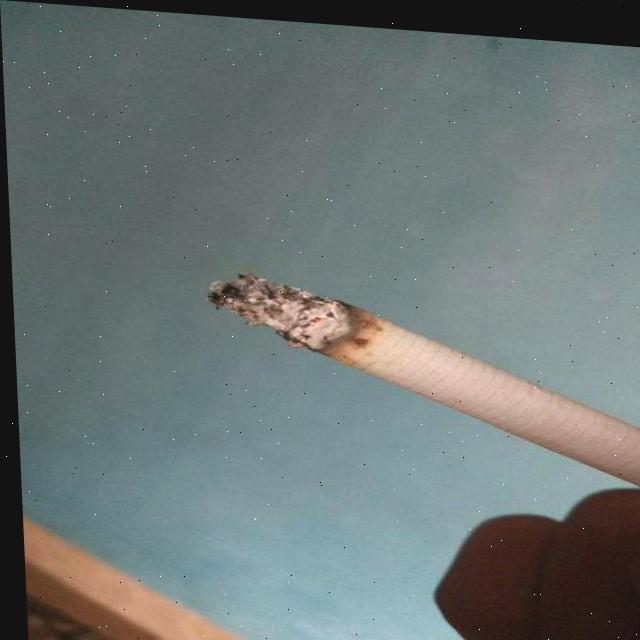cigarette: (207, 264, 640, 485)
